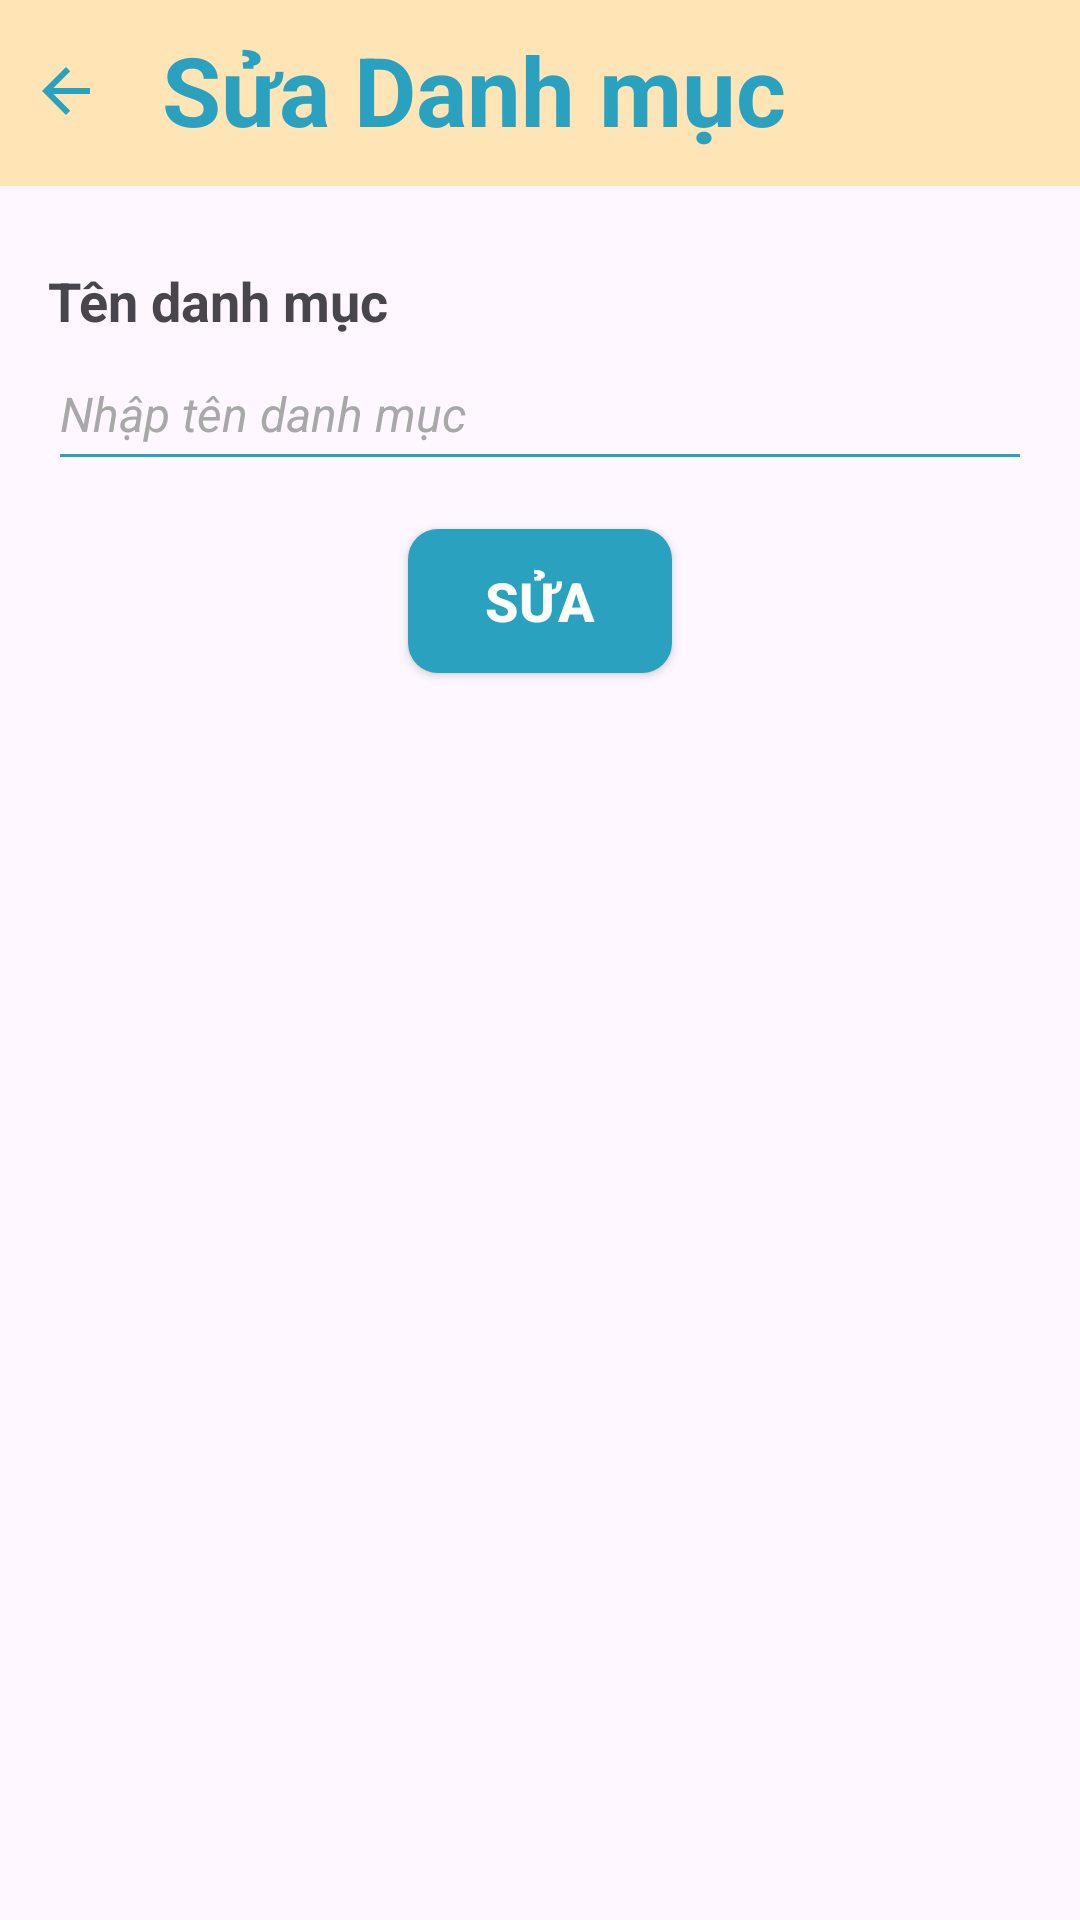

Icons on this 1080x1920 Android screen, each with its box as (x1, y1, x2, y2):
Go back: (42, 67, 90, 115)
